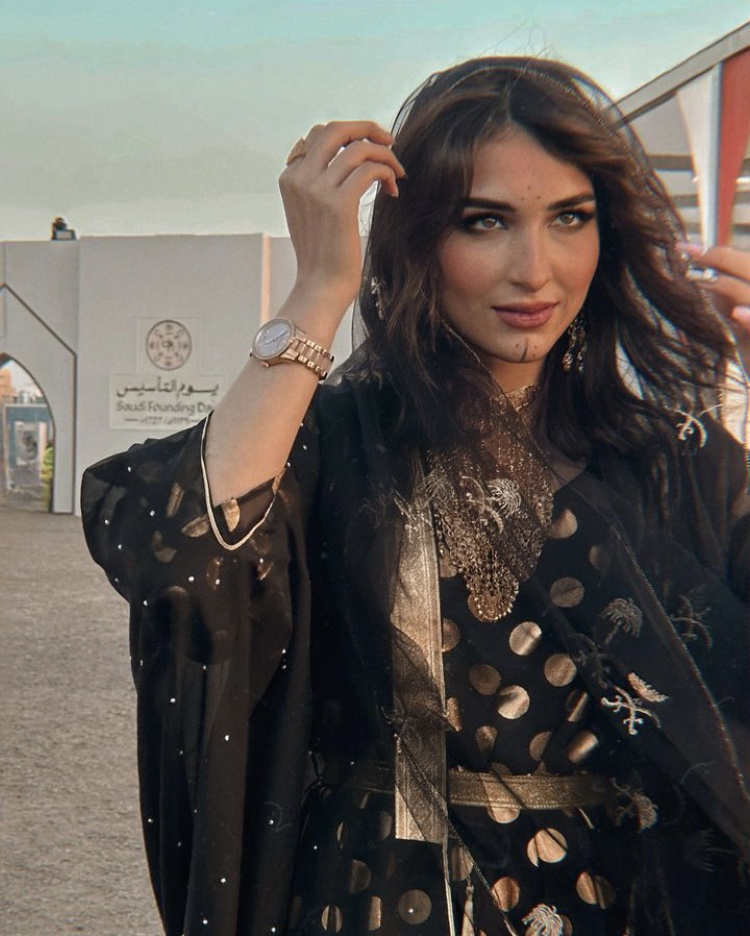Saudi_Founding_Day: (77, 52, 750, 936)
